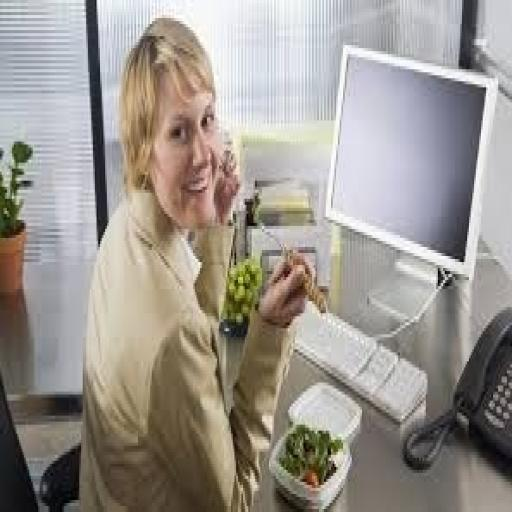eating: (76, 15, 314, 506)
